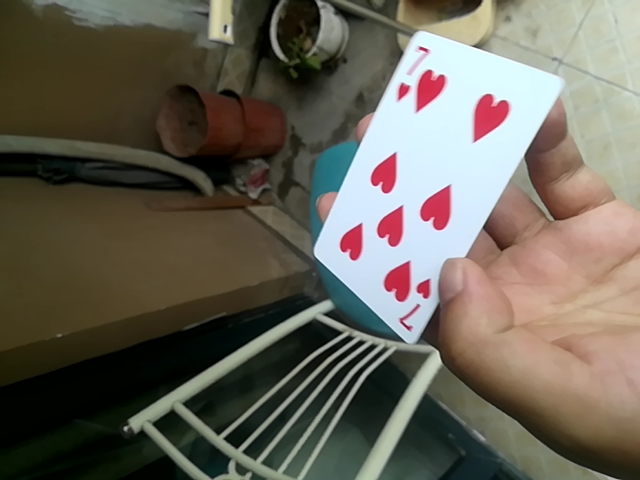hx 7: (308, 28, 559, 350)
